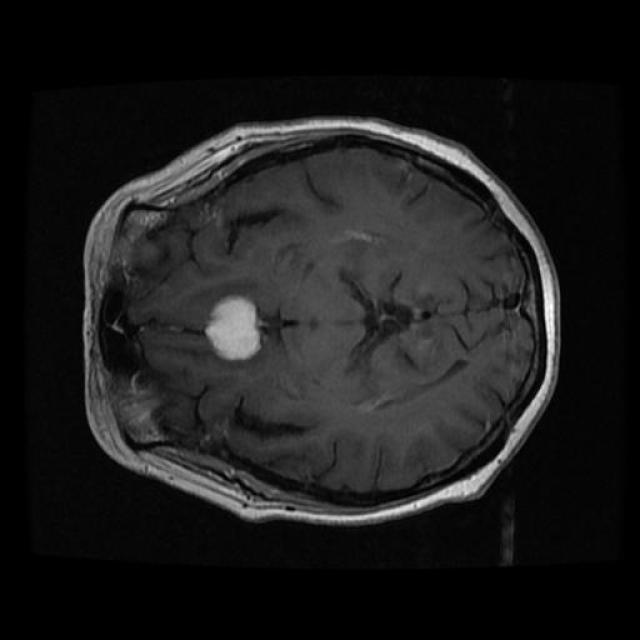Meningioma: (203, 295, 261, 361)
